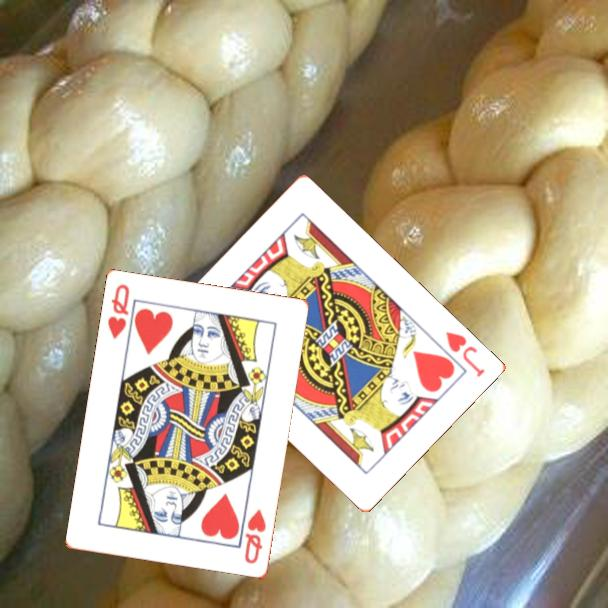h11: (441, 328, 487, 380)
h12: (104, 281, 133, 343), (241, 506, 269, 567)
